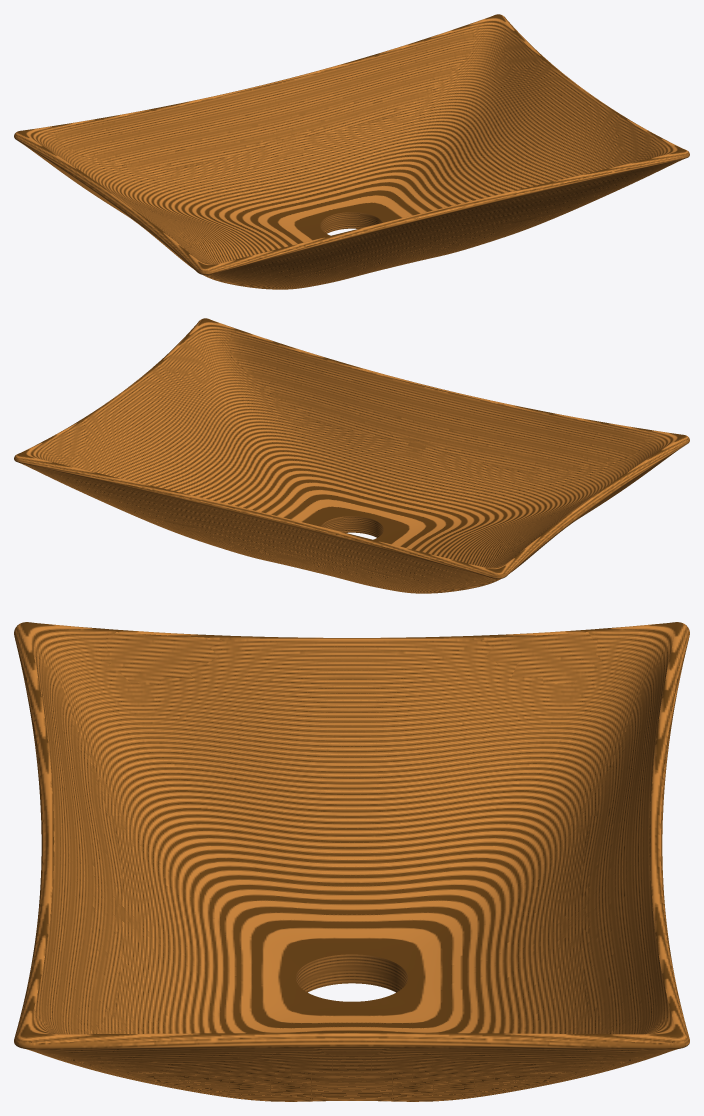
The model's file is Раковина 2_5.glb.
The picture shows the model from 3 angles, top to bottom: view 1: azimuth 30°, elevation 25°; view 2: azimuth 150°, elevation 25°; view 3: azimuth 270°, elevation 25°; orthographic projection. The views are drawn at different scales.
Visible parts, largest first — view 1: Solid_326; view 2: Solid_326; view 3: Solid_326.
Part boxes in pixels (x1,y1,x2,y2): Solid_326: (14, 14, 689, 289); Solid_326: (14, 318, 689, 593); Solid_326: (14, 622, 689, 1101).
Size of the model in its own units: 622 by 122 by 421.
1 material, 1 textured.
